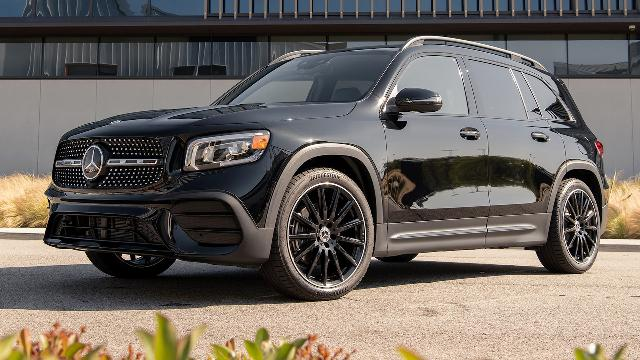benz: (42, 35, 610, 300)
